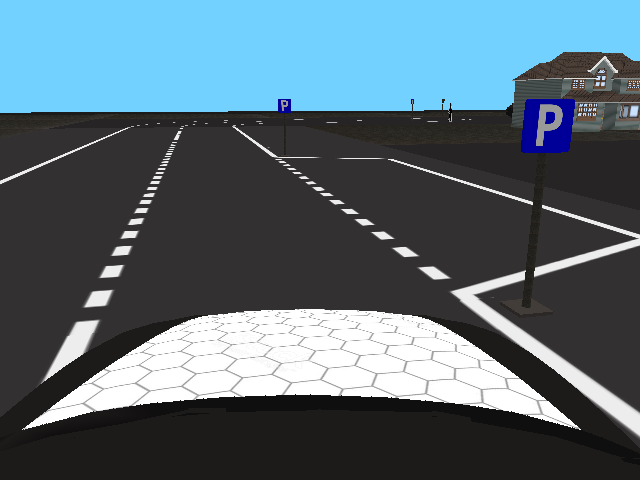parking: (522, 99, 575, 153), (277, 98, 291, 113)
